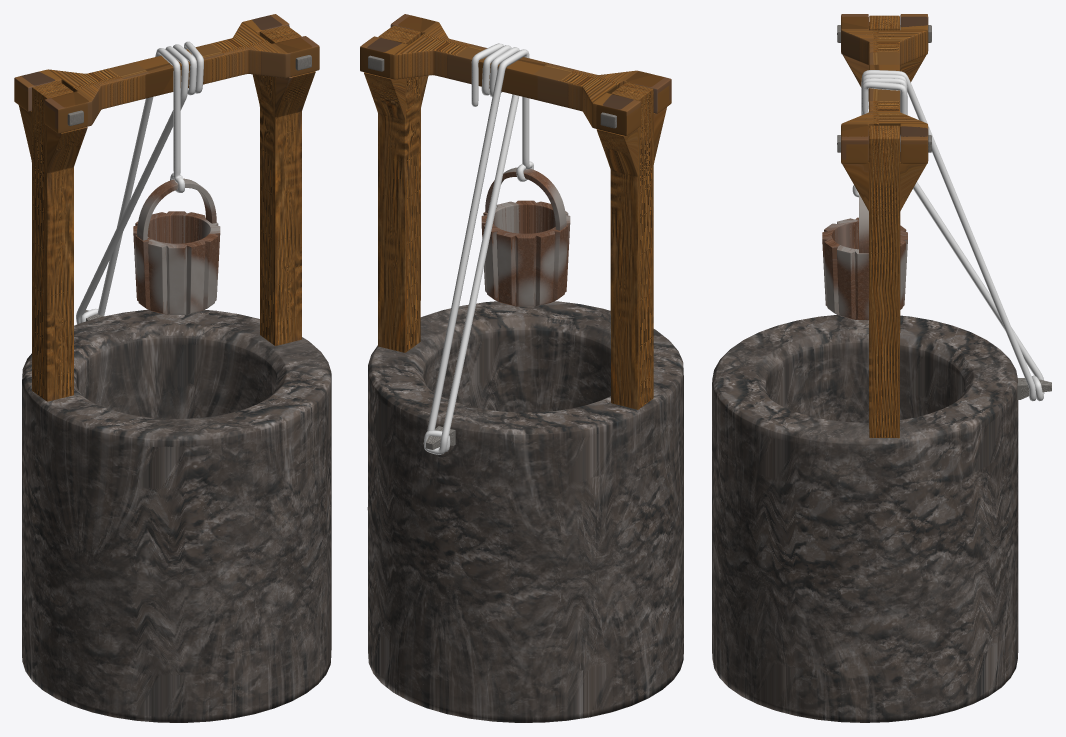
File: Well.fbx
The picture shows the model from 3 angles, left to right: view 1: azimuth 30°, elevation 25°; view 2: azimuth 150°, elevation 25°; view 3: azimuth 270°, elevation 25°; orthographic projection. The views are drawn at different scales.
Parts seen in each view (by area): view 1: Cylinder, Cube, Cube.001, Cylinder.001, Plane, Cylinder.002; view 2: Cylinder, Cube, Cube.001, Plane, Cylinder.001, Cylinder.002; view 3: Cylinder, Cube, Cube.001, Plane, Cylinder.001.
Boxes of the visible parts, bbox=[...] form: Cylinder: bbox=[22, 309, 331, 722]; Cube: bbox=[18, 25, 315, 401]; Cube.001: bbox=[14, 14, 319, 133]; Cylinder.001: bbox=[133, 211, 220, 314]; Plane: bbox=[76, 41, 203, 324]; Cylinder.002: bbox=[137, 178, 216, 240]; Cylinder: bbox=[367, 301, 683, 722]; Cube: bbox=[364, 25, 666, 409]; Cube.001: bbox=[360, 14, 671, 135]; Plane: bbox=[423, 43, 533, 454]; Cylinder.001: bbox=[481, 200, 570, 306]; Cylinder.002: bbox=[485, 167, 566, 230]; Cylinder: bbox=[712, 315, 1018, 722]; Cube: bbox=[842, 15, 926, 438]; Cube.001: bbox=[841, 14, 928, 163]; Plane: bbox=[852, 70, 1044, 401]; Cylinder.001: bbox=[822, 217, 907, 319].
Bounding box in the file's own units: 197 × 417 × 218.
